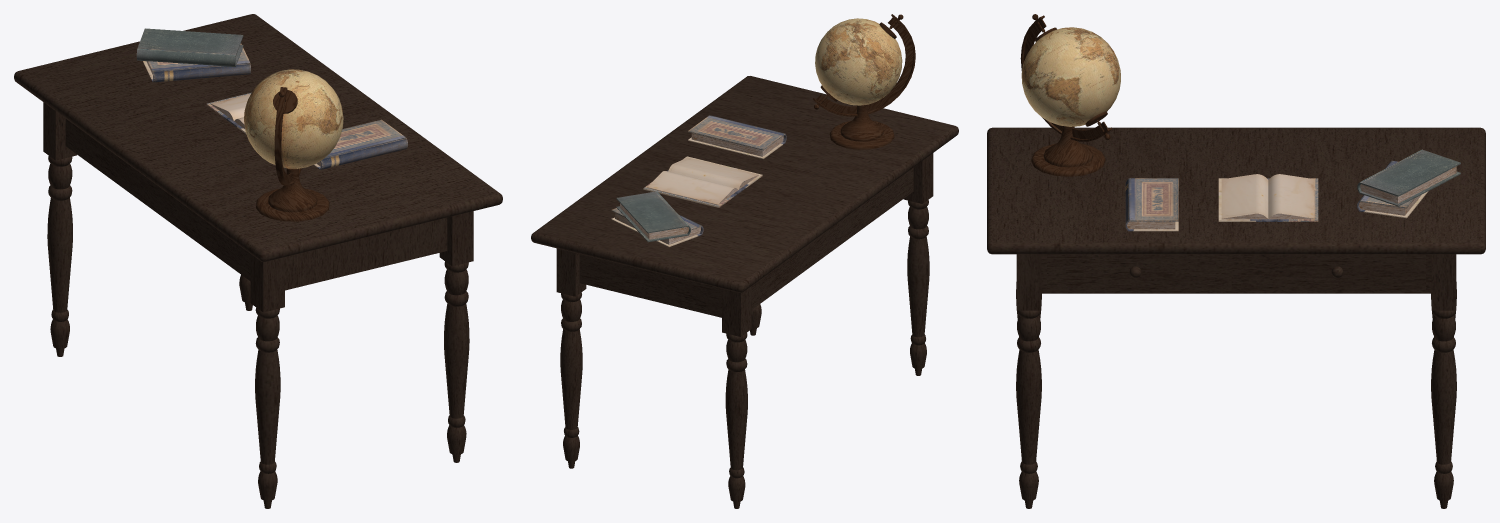
The model's file is desk.glb.
The picture shows the model from 3 angles, left to right: view 1: azimuth 30°, elevation 25°; view 2: azimuth 150°, elevation 25°; view 3: azimuth 270°, elevation 25°; orthographic projection. The views are drawn at different scales.
Visible parts, largest first — view 1: Object_4, Object_5, Object_6, Object_2, Object_3; view 2: Object_4, Object_5, Object_3, Object_6, Object_2; view 3: Object_4, Object_5, Object_3, Object_6, Object_2.
Part boxes in pixels (<box>): Object_4: <box>14,14,502,508</box>; Object_5: <box>244,69,343,221</box>; Object_6: <box>143,43,407,169</box>; Object_2: <box>136,28,243,66</box>; Object_3: <box>206,92,251,134</box>; Object_4: <box>531,76,958,508</box>; Object_5: <box>813,14,915,149</box>; Object_3: <box>643,156,762,207</box>; Object_6: <box>611,115,786,246</box>; Object_2: <box>616,191,690,242</box>; Object_4: <box>987,127,1485,508</box>; Object_5: <box>1020,14,1120,176</box>; Object_3: <box>1218,174,1318,221</box>; Object_6: <box>1125,160,1428,231</box>; Object_2: <box>1357,149,1460,206</box>.
Size of the model in its own units: 5.62 by 9.07 by 10.
5 materials, 5 textured.
